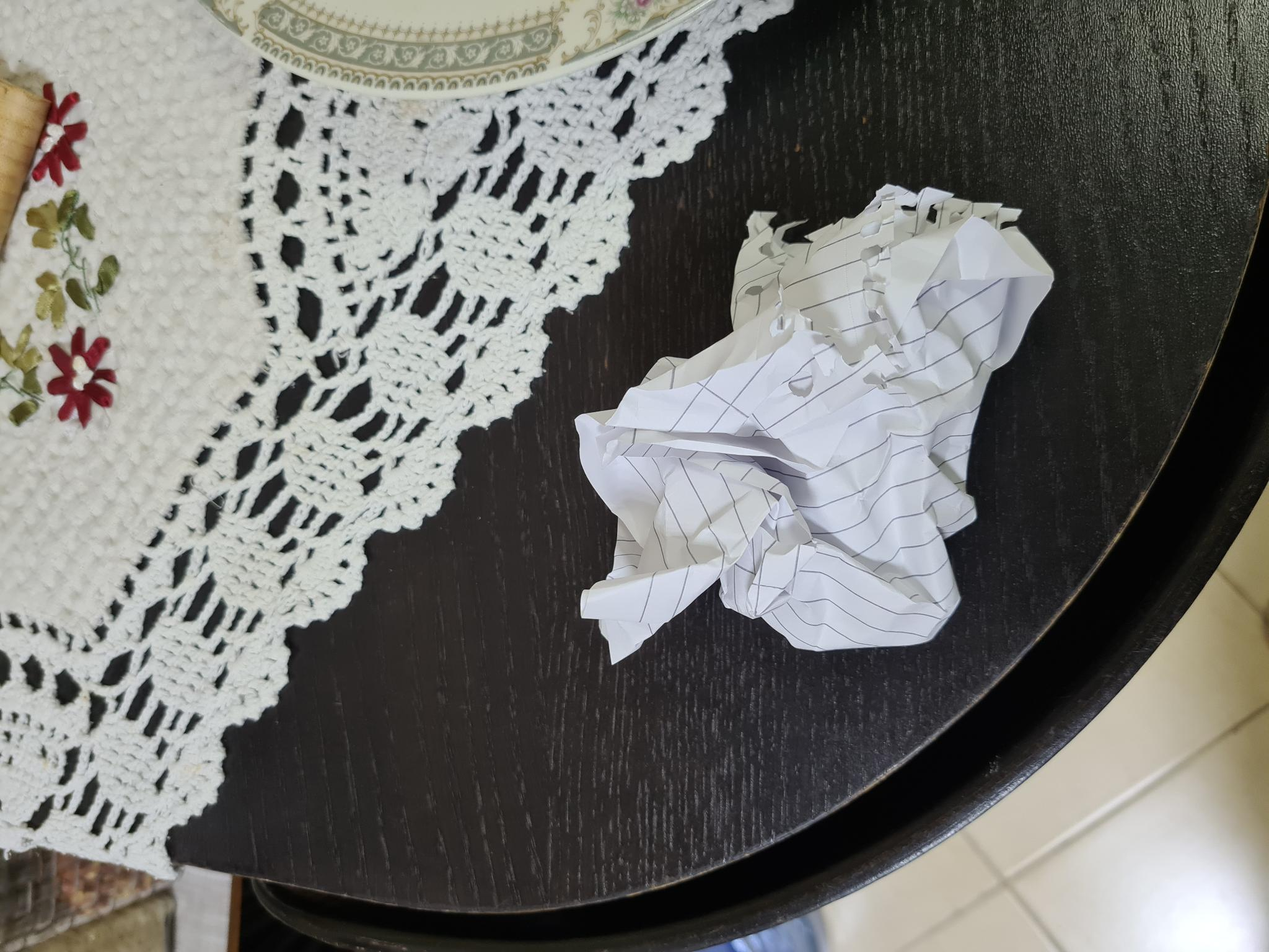Kertas: (289, 576, 728, 952)
